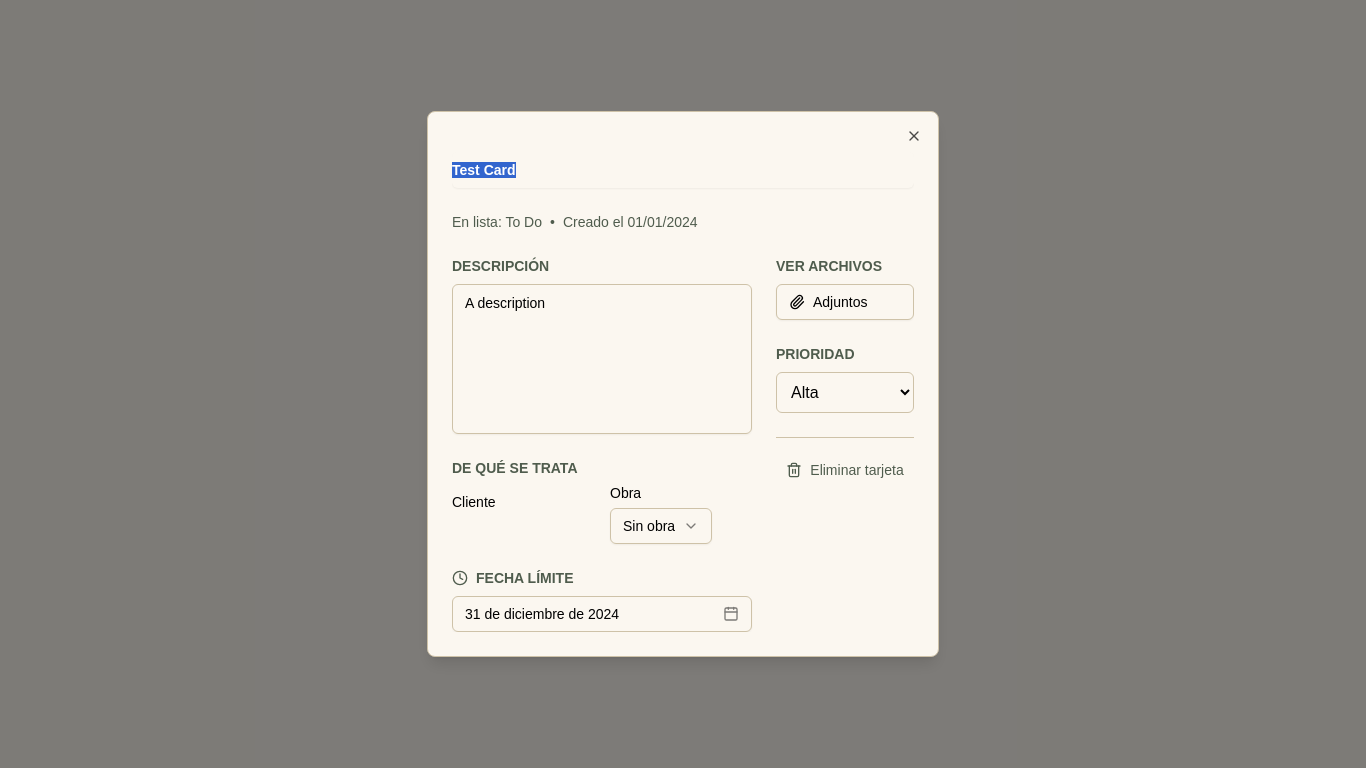
Test: CardDetailModal › shows empty gallery state when no files
This screenshot has width=1366, height=768.
Click the button "Adjuntos".
click(845, 302)  # box [776,284,914,320]
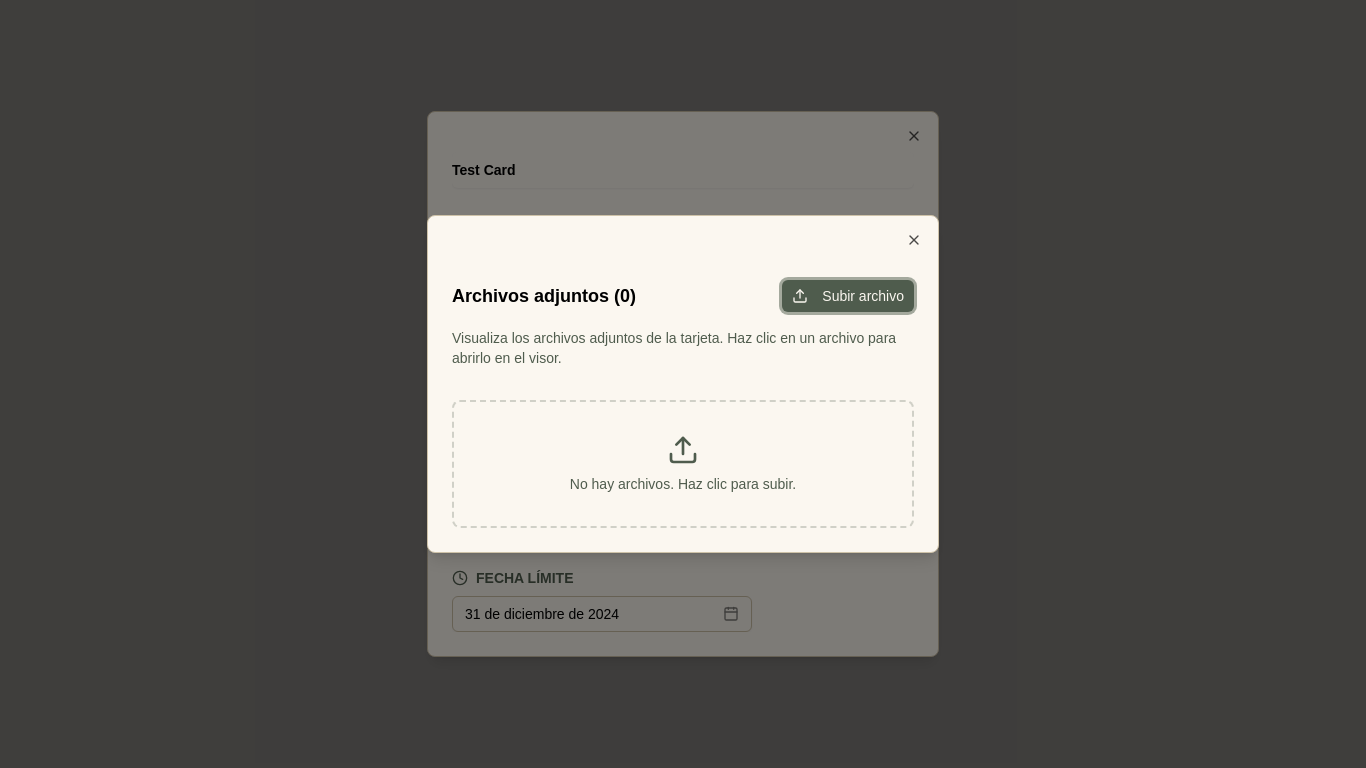
Expected: the text "No hay archivos. Haz clic para subir." is shown, [570,474,796,494]
